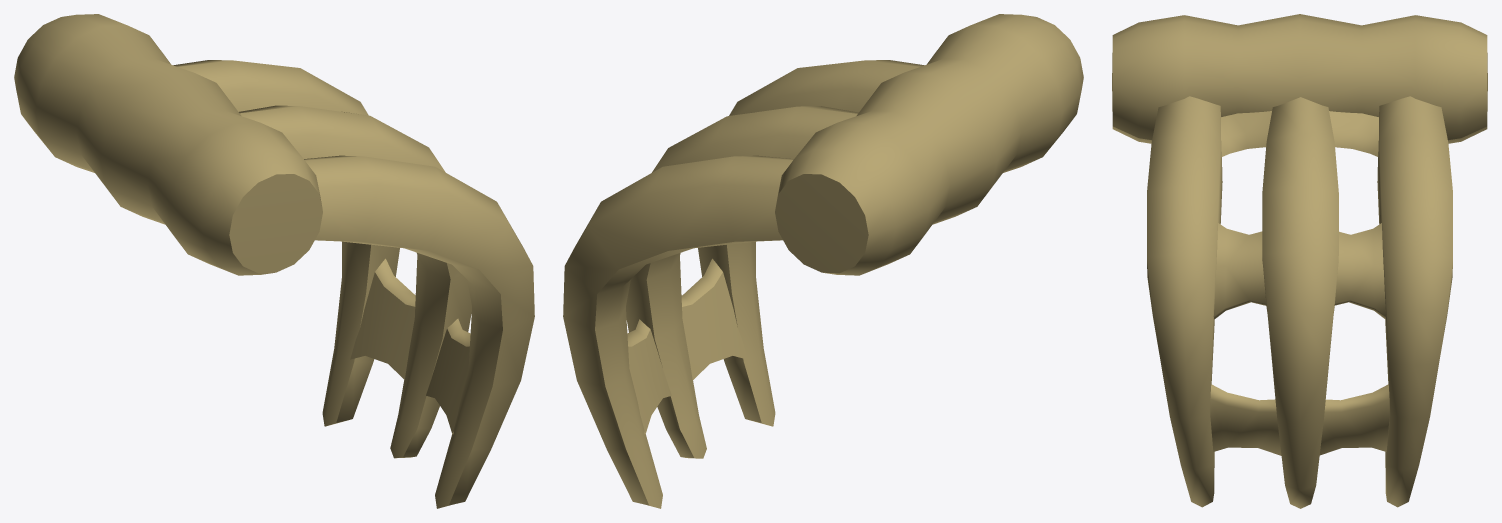
The model's file is obj_artifact_fossil05.fbx.
3 renders of one model, left to right at view 1: azimuth 30°, elevation 25°; view 2: azimuth 150°, elevation 25°; view 3: azimuth 270°, elevation 25°, orthographic. The views are drawn at different scales.
Parts seen in each view (by area): view 1: lod0_obj_artifact_fossil05.001; view 2: lod0_obj_artifact_fossil05.001; view 3: lod0_obj_artifact_fossil05.001.
Part boxes in pixels (x1=…): lod0_obj_artifact_fossil05.001: x1=14, y1=14, x2=534, y2=508; lod0_obj_artifact_fossil05.001: x1=563, y1=14, x2=1083, y2=508; lod0_obj_artifact_fossil05.001: x1=1112, y1=14, x2=1487, y2=508.
Bounding box in the file's own units: 7.88 × 9.07 × 7.97.
